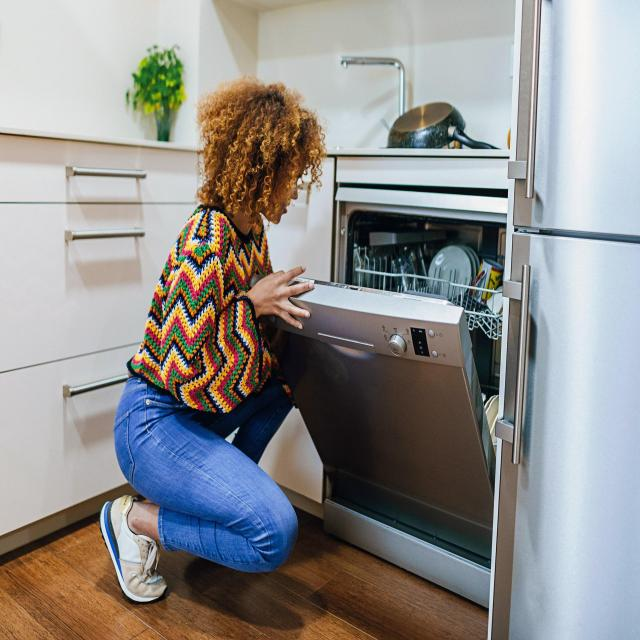dishwasher: (320, 139, 517, 635)
